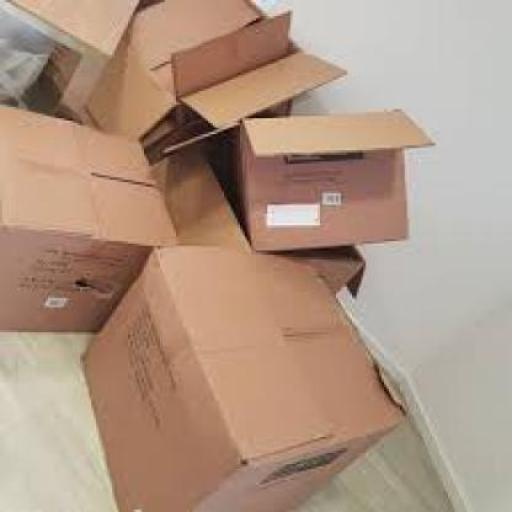cardboard: (80, 238, 405, 510), (0, 102, 178, 332), (80, 0, 343, 155), (162, 145, 364, 303), (235, 105, 435, 252), (4, 0, 138, 55), (48, 50, 96, 109)
